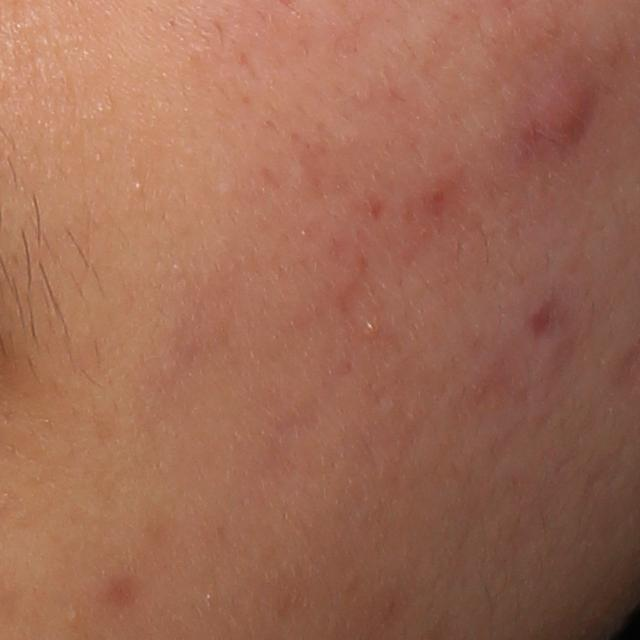comedo: (63, 606, 83, 629), (364, 316, 380, 338)
papule: (513, 58, 602, 158)
